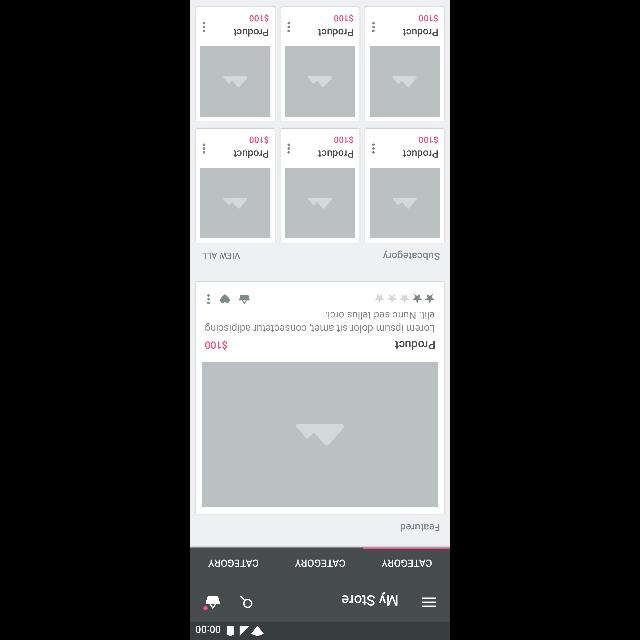icon: (374, 295, 434, 303), (202, 595, 220, 611), (240, 596, 252, 608), (422, 597, 436, 607), (238, 294, 250, 304), (219, 294, 229, 304), (286, 142, 290, 156), (286, 22, 290, 32), (202, 143, 204, 155), (206, 294, 208, 304), (202, 22, 204, 32), (372, 143, 374, 153), (372, 22, 374, 32)
image: (201, 362, 437, 508), (369, 168, 439, 238), (284, 168, 354, 238), (200, 168, 270, 238), (369, 47, 439, 117), (284, 47, 354, 117), (199, 47, 269, 117)
multitab: (189, 547, 449, 581)
panel: (194, 282, 444, 514), (195, 7, 275, 121), (195, 129, 275, 243), (364, 129, 444, 243), (364, 7, 444, 121), (280, 7, 358, 122), (280, 129, 358, 243)
text: (204, 312, 433, 332), (341, 592, 397, 606), (382, 250, 440, 260), (394, 340, 434, 350), (400, 524, 440, 532), (200, 251, 240, 259), (208, 560, 258, 566), (294, 560, 344, 566), (381, 560, 431, 566), (318, 150, 354, 158), (402, 150, 438, 158), (232, 150, 268, 158), (402, 29, 438, 37), (232, 29, 268, 37), (318, 29, 352, 37), (204, 340, 226, 350), (333, 136, 353, 144), (418, 136, 438, 144), (249, 136, 269, 144), (248, 15, 268, 23), (333, 14, 352, 22), (419, 14, 437, 22)
toolbar: (189, 582, 449, 622)
uppertaskbar: (189, 622, 449, 640)
